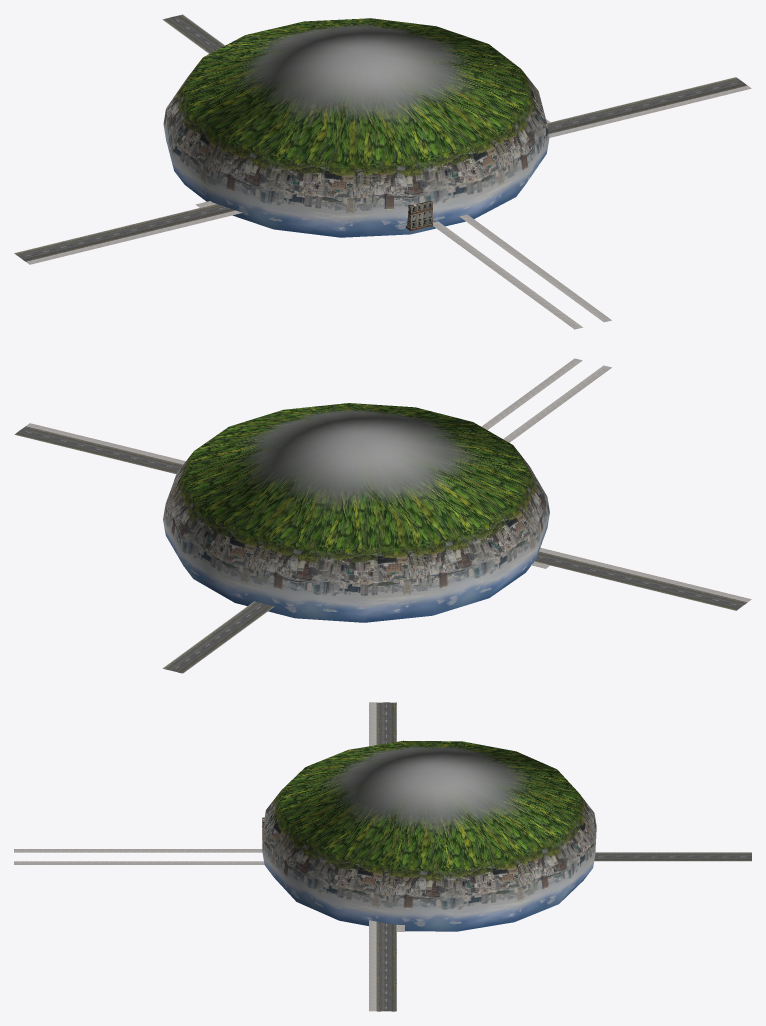
Rendered from Police_Yard.glb.
The picture shows the model from 3 angles, top to bottom: view 1: azimuth 30°, elevation 25°; view 2: azimuth 150°, elevation 25°; view 3: azimuth 270°, elevation 25°; orthographic projection. The views are drawn at different scales.
Parts seen in each view (by area): view 1: Police_Yard; view 2: Police_Yard; view 3: Police_Yard.
Boxes of the visible parts, x1,y1,x2,y2 form: Police_Yard: [14, 14, 751, 329]; Police_Yard: [14, 358, 751, 673]; Police_Yard: [14, 702, 751, 1011].
Size of the model in its own units: 2138 by 315 by 2158.
32 materials, 31 textured.
